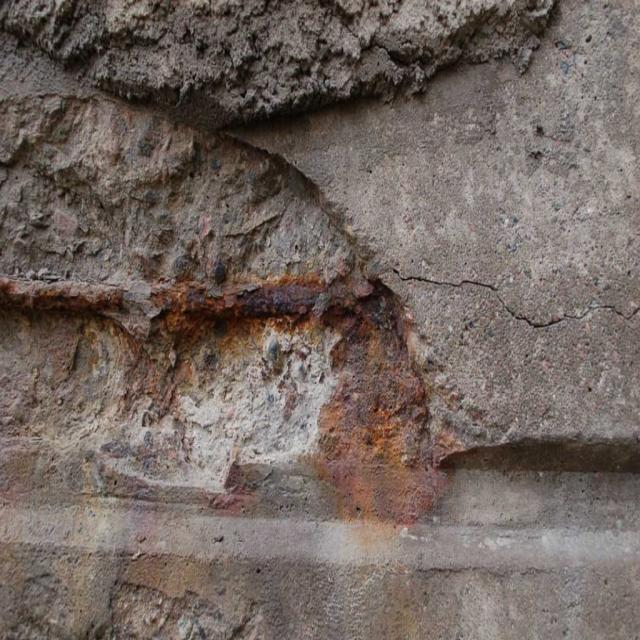Spalling: (0, 97, 431, 512)
corrosion: (30, 272, 427, 489)
crack: (397, 262, 639, 335)
